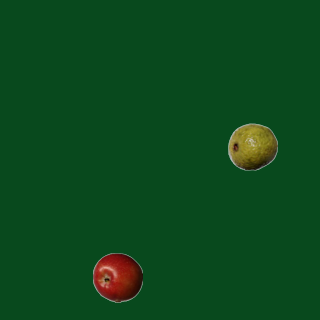Apple Braeburn: (92, 252, 142, 302)
Guava: (227, 121, 277, 171)
